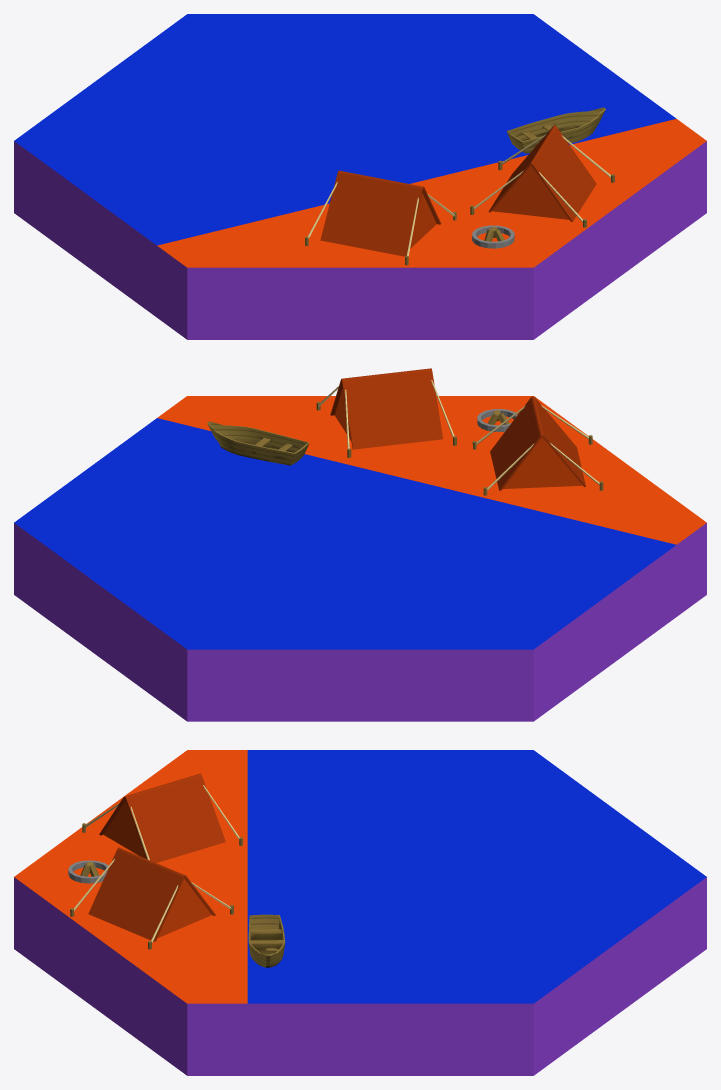
The model's file is Tuile_Village_Pecheur_Level1.fbx.
3 renders of one model, top to bottom at view 1: azimuth 30°, elevation 25°; view 2: azimuth 150°, elevation 25°; view 3: azimuth 270°, elevation 25°, orthographic.
Parts seen in each view (by area): view 1: Tuile, Tente, Bateau.002, Feu; view 2: Tuile, Tente, Bateau.002, Feu; view 3: Tuile, Tente, Bateau.002, Feu.
Part boxes in pixels (x1=…): Tuile: x1=14, y1=14, x2=706, y2=339; Tente: x1=305, y1=125, x2=614, y2=265; Bateau.002: x1=507, y1=107, x2=605, y2=153; Feu: x1=472, y1=225, x2=514, y2=248; Tuile: x1=14, y1=396, x2=706, y2=721; Tente: x1=316, y1=368, x2=603, y2=495; Bateau.002: x1=207, y1=421, x2=308, y2=465; Feu: x1=477, y1=409, x2=517, y2=431; Tuile: x1=14, y1=750, x2=706, y2=1075; Tente: x1=70, y1=773, x2=242, y2=949; Bateau.002: x1=248, y1=914, x2=285, y2=967; Feu: x1=68, y1=860, x2=108, y2=883.
Size of the model in its own units: 107 by 24.74 by 124.
